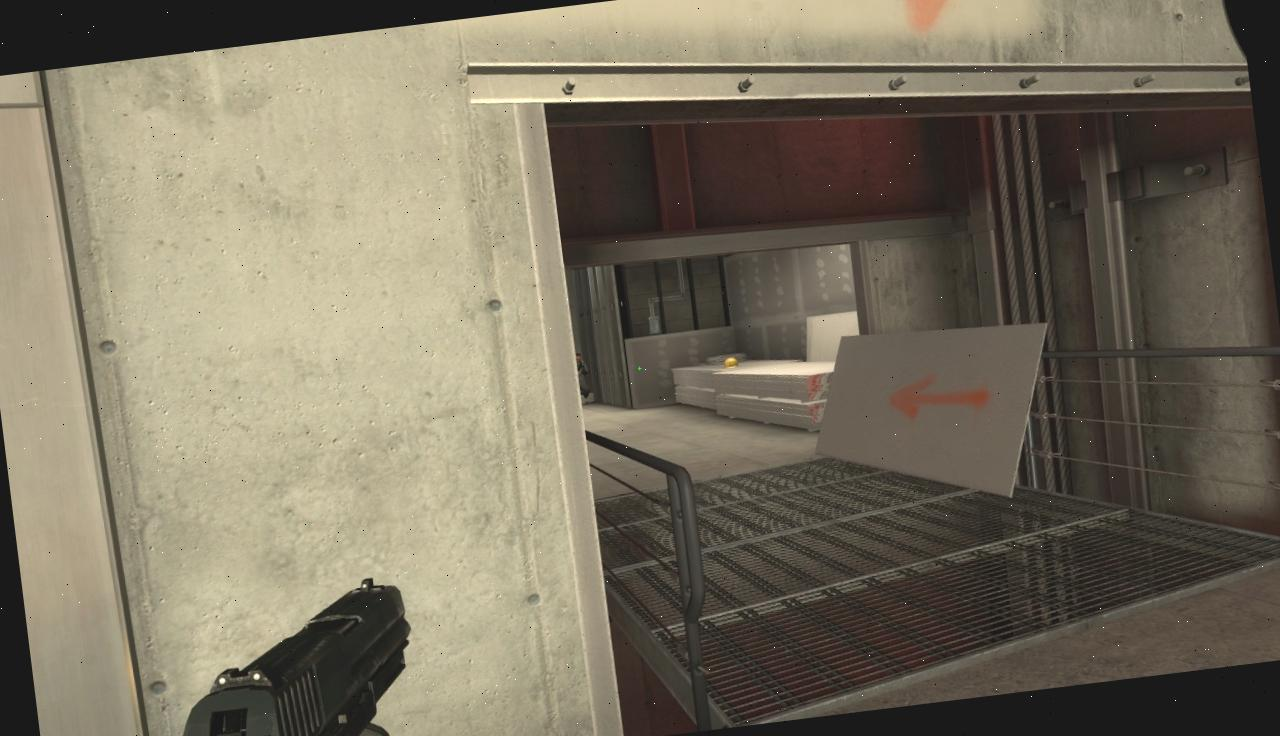pistol: (131, 568, 431, 736)
tt: (576, 352, 587, 395)
